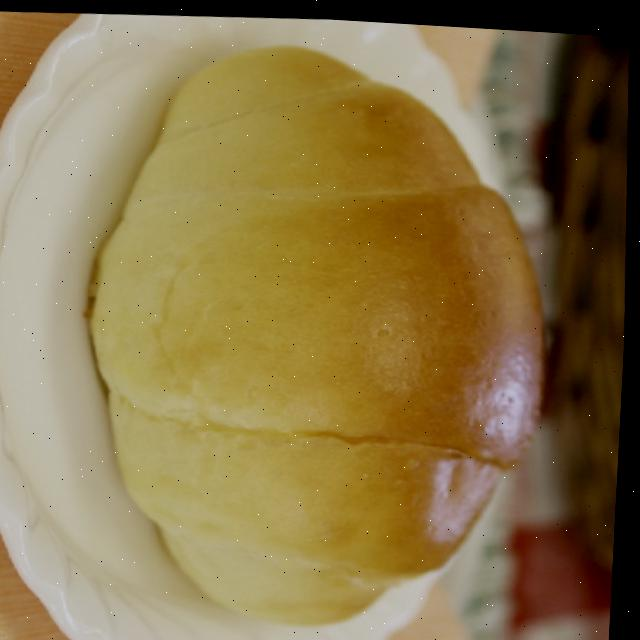面包点心: (65, 28, 566, 640)
